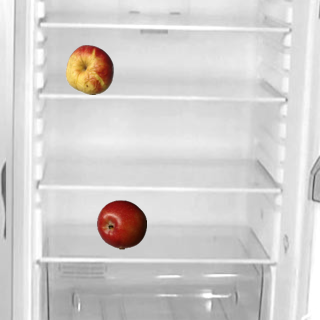Apple Braeburn: (96, 199, 146, 249)
Apple Red Yellow 1: (64, 44, 114, 94)
